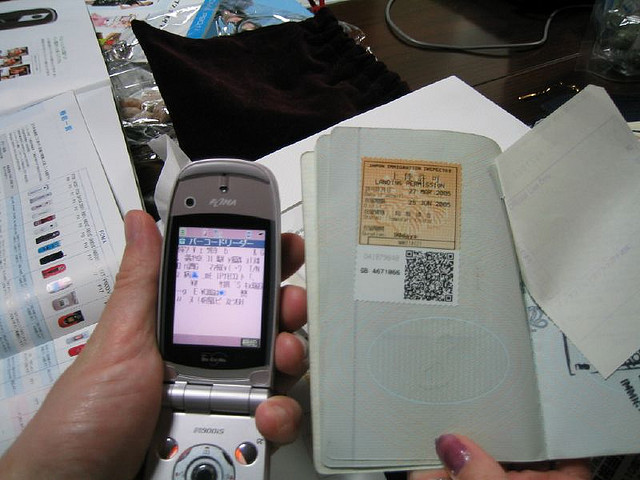QR-CODE: (403, 250, 453, 301)
